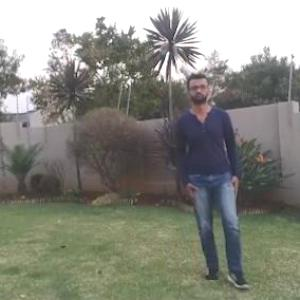follow: (170, 48, 251, 296)
